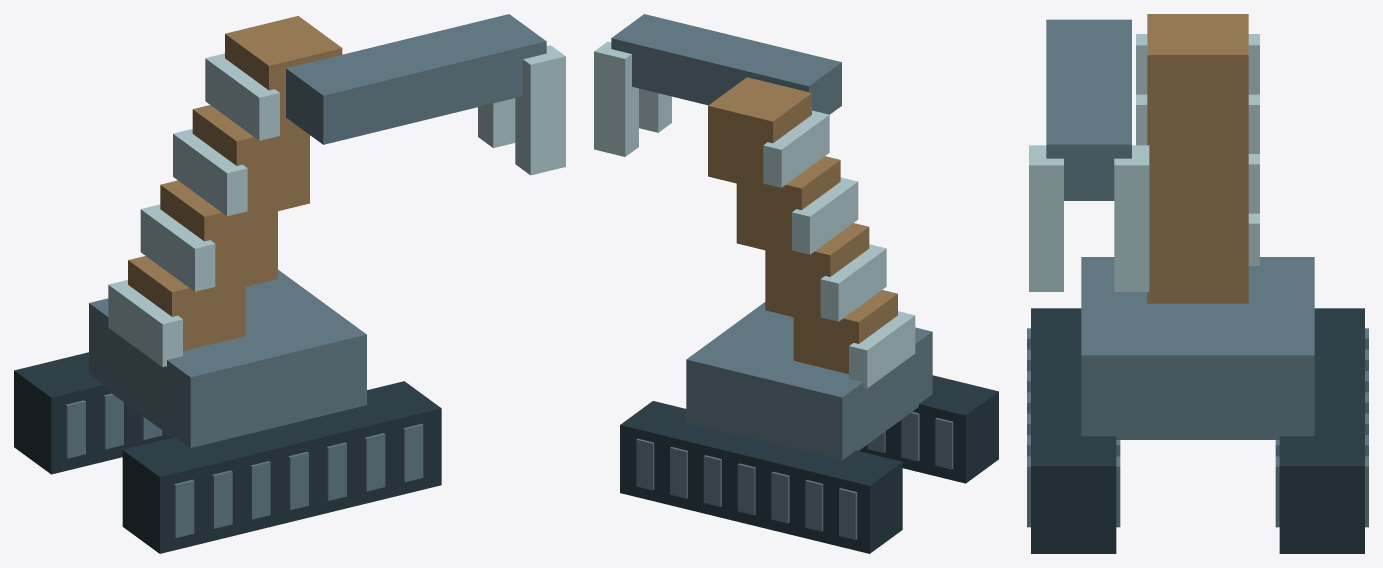
The model's file is rogue-arm.glb.
3 renders of one model, left to right at view 1: azimuth 30°, elevation 25°; view 2: azimuth 150°, elevation 25°; view 3: azimuth 270°, elevation 25°, orthographic. The views are drawn at different scales.
Parts seen in each view (by area): view 1: Tracks, Turntable, Boom, CraneForearm, Hydraulics, TreadRibs, Clamp; view 2: Tracks, Boom, Turntable, Hydraulics, CraneForearm, TreadRibs, Clamp; view 3: Turntable, Tracks, Boom, CraneForearm, Clamp, Hydraulics, TreadRibs.
Boxes of the visible parts, <box> form: Tracks: <box>14,352,441,553</box>; Turntable: <box>89,269,366,447</box>; Boom: <box>128,16,342,350</box>; CraneForearm: <box>286,14,546,144</box>; Hydraulics: <box>108,53,279,367</box>; TreadRibs: <box>65,393,423,537</box>; Clamp: <box>478,45,565,175</box>; Tracks: <box>620,375,998,553</box>; Boom: <box>708,77,897,374</box>; Turntable: <box>686,302,932,459</box>; Hydraulics: <box>763,110,915,388</box>; CraneForearm: <box>611,14,841,114</box>; TreadRibs: <box>636,412,953,539</box>; Clamp: <box>594,41,671,156</box>; Turntable: <box>1081,257,1314,439</box>; Tracks: <box>1031,308,1364,553</box>; Boom: <box>1147,14,1248,303</box>; CraneForearm: <box>1046,19,1131,200</box>; Clamp: <box>1029,145,1149,291</box>; Hydraulics: <box>1136,34,1259,265</box>; TreadRibs: <box>1027,328,1368,527</box>.
Bounding box in the file's own units: 6.9 × 6.7 × 4.4.
